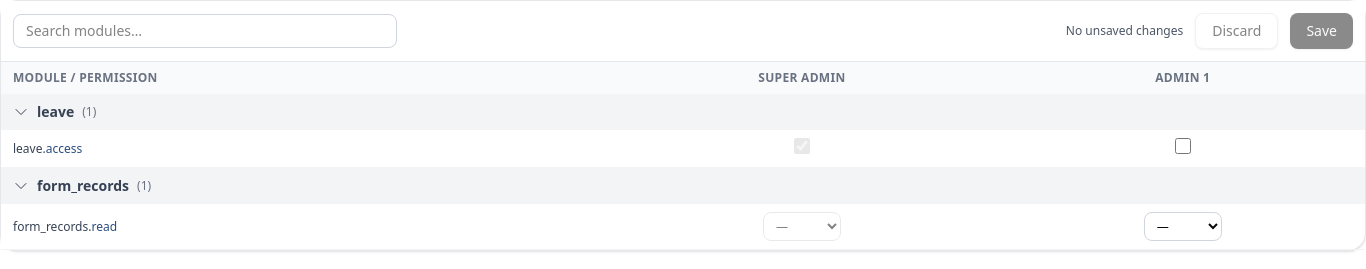
Test: PermissionMatrixPage › toggling a non-Super-Admin cell increments dirty count
The width and height of the screenshot is (1366, 269).
expect the column heading "Admin 1" is shown: met, box [1000, 62, 1365, 94]
expect the text "No unsaved changes" is shown: met, box [1066, 23, 1183, 39]
Click the 2nd checkbox named "leave.access" at coordinates (1183, 146), box [1175, 138, 1191, 154]
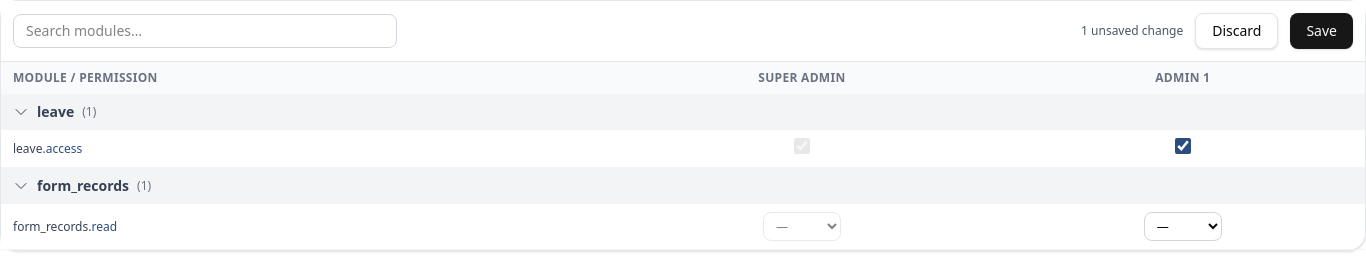
expect the text "1 unsaved change" is shown: met, box [1081, 23, 1183, 39]
